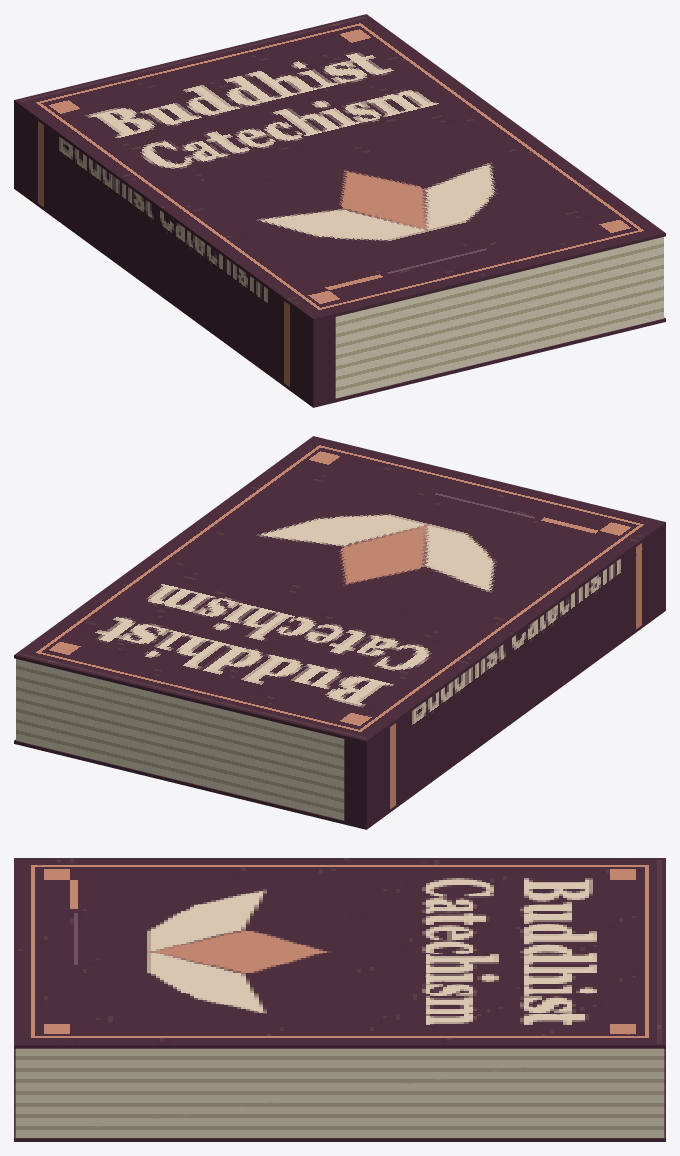
The model's file is holybook_catechismbudda.glb.
3 views of the same model, one above another, from view 1: azimuth 30°, elevation 25°; view 2: azimuth 150°, elevation 25°; view 3: azimuth 270°, elevation 25° (orthographic). The views are drawn at different scales.
Parts seen in each view (by area): view 1: block_front cover, block_page block, block_spine, block_back cover; view 2: block_front cover, block_page block, block_spine, block_back cover; view 3: block_front cover, block_page block, block_back cover.
Boxes of the visible parts, x1,y1,x2,y2 form: block_front cover: (14, 14, 665, 322); block_page block: (335, 237, 663, 398); block_spine: (14, 103, 335, 404); block_back cover: (14, 186, 665, 407); block_front cover: (14, 436, 665, 744); block_page block: (16, 659, 344, 820); block_spine: (344, 525, 665, 826); block_back cover: (14, 608, 665, 829); block_front cover: (14, 858, 665, 1048); block_page block: (15, 1048, 664, 1137); block_back cover: (14, 1048, 665, 1141).
Bounding box in the file's own units: 0.1414 × 0.034 × 0.208.
1 material, 1 textured.
